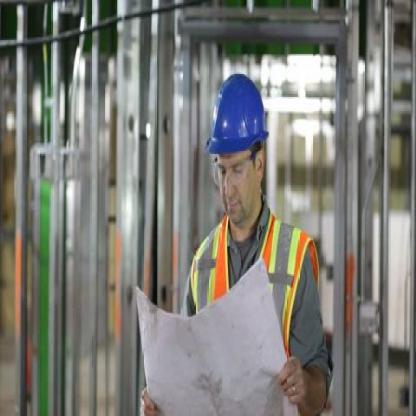helmet: (205, 72, 268, 154)
person: (136, 72, 336, 414)
vest: (189, 216, 320, 414)
